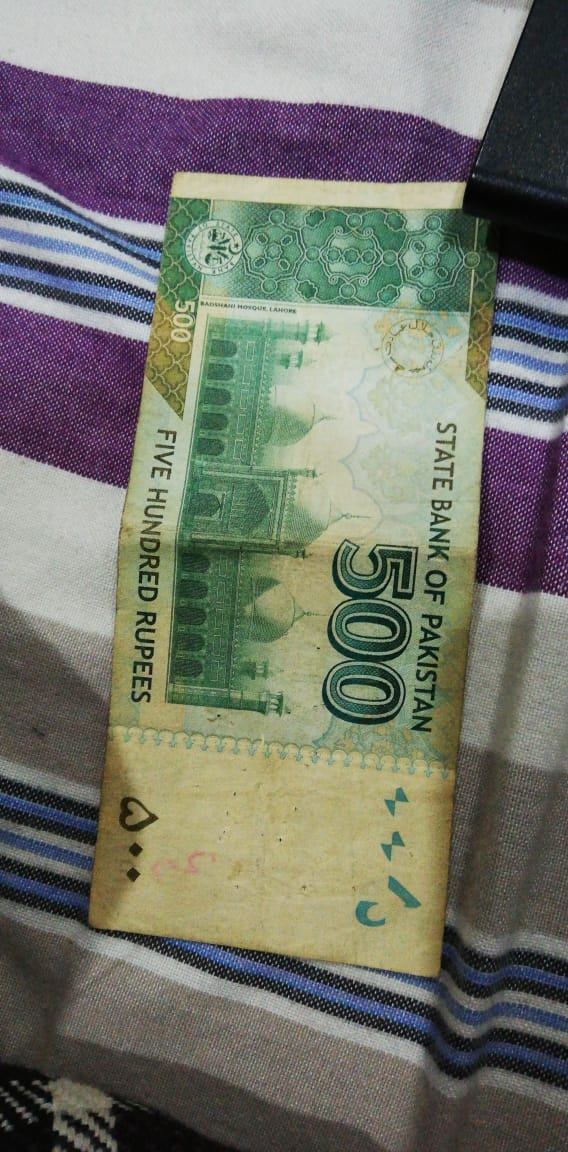500 rupee: (76, 157, 492, 1049)
